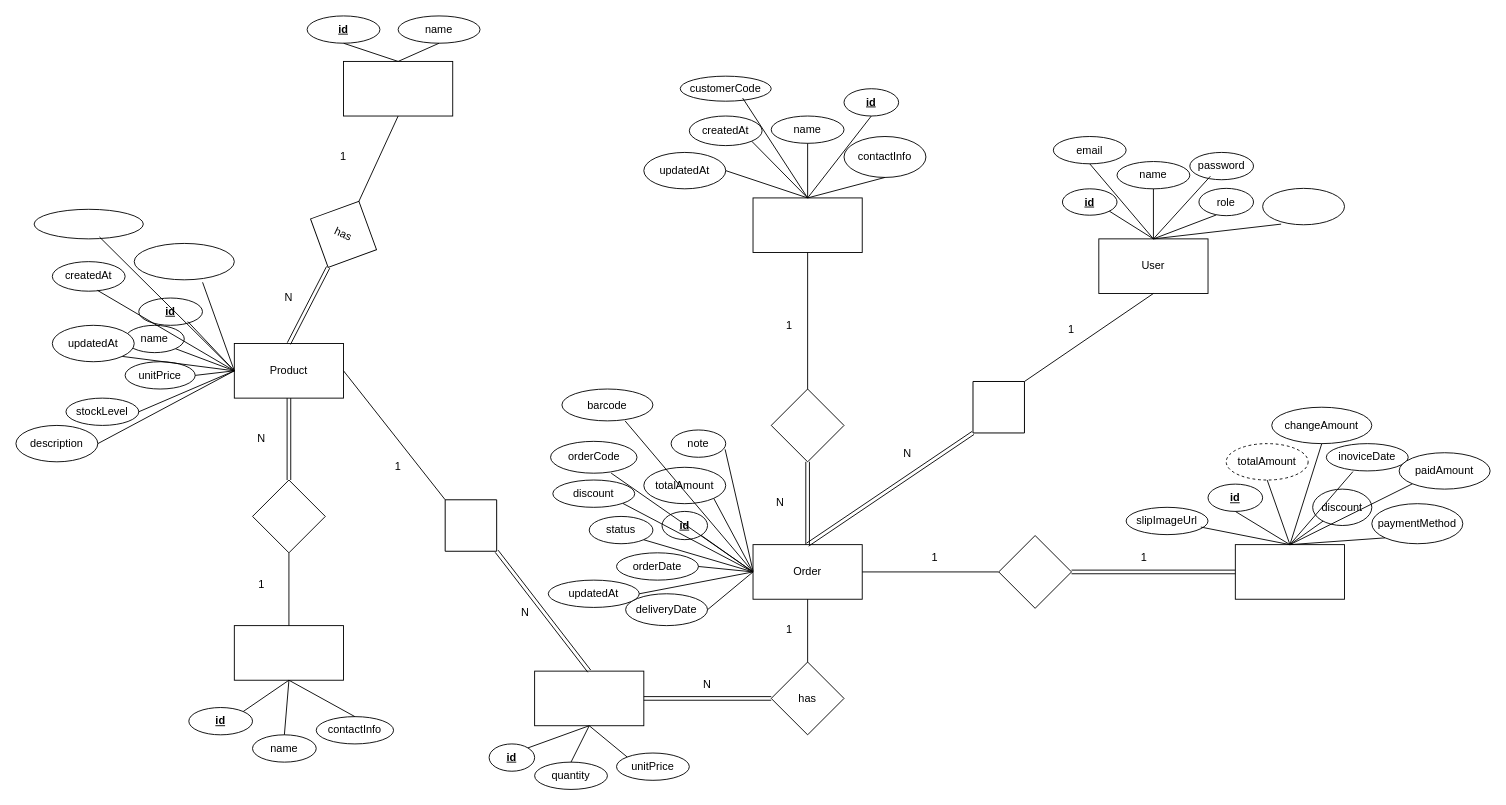
The diagram is 1506 pixels wide and 805 high, and some of its shapes have lost their labels. Each missing label, with the box of its shape:
contains: (418, 473, 523, 577)
create: (946, 355, 1050, 459)
Customer: (752, 197, 862, 253)
Generates: (998, 535, 1072, 608)
lastLoginAt: (1262, 187, 1345, 225)
OrderItem: (534, 670, 644, 726)
pictrueUrl: (133, 243, 234, 280)
Places: (770, 388, 844, 462)
ProductCategory: (343, 61, 453, 116)
productCode: (33, 208, 143, 239)
SaleInovice: (1234, 544, 1345, 599)
Supplied By: (252, 479, 325, 553)
Supplier: (233, 625, 344, 680)
